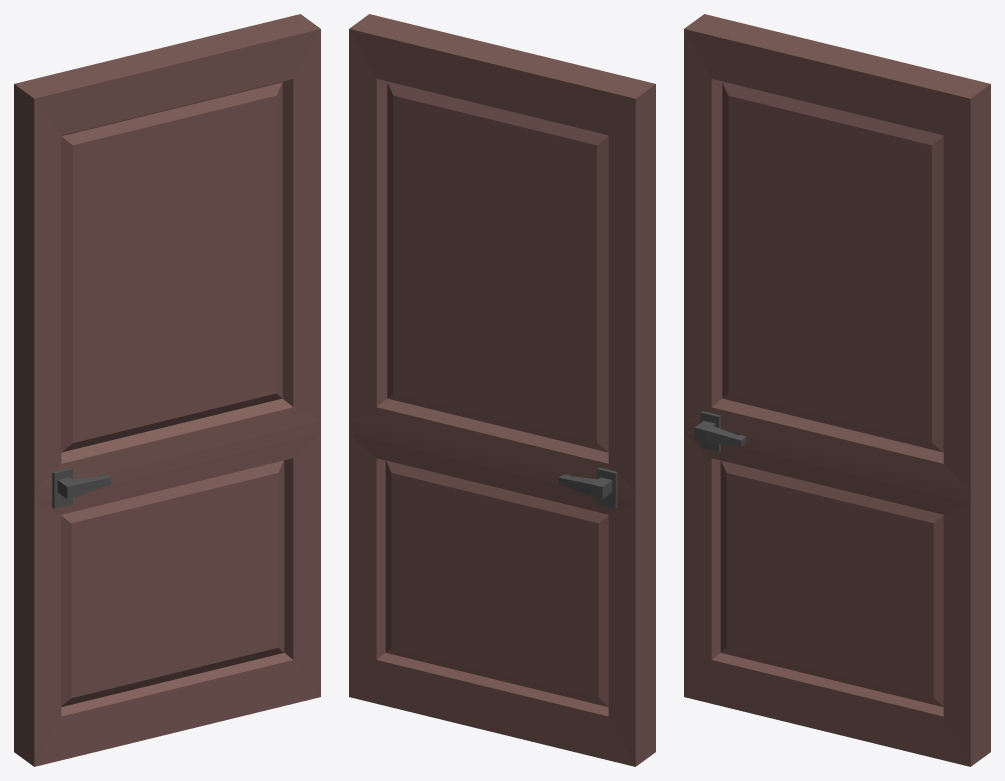
File: door.fbx
3 views of the same model, side by side, from view 1: azimuth 30°, elevation 25°; view 2: azimuth 150°, elevation 25°; view 3: azimuth 330°, elevation 25° (orthographic).
Parts seen in each view (by area): view 1: Door_03; view 2: Door_03; view 3: Door_03.
Part boxes in pixels (box(x1,y1,x2,y2)): Door_03: box(14, 14, 320, 766); Door_03: box(349, 14, 655, 766); Door_03: box(684, 14, 990, 766).
Size of the model in its own units: 165 by 367 by 42.83.
